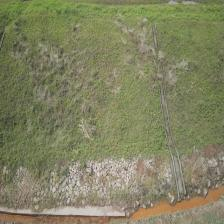rock_toe: (37, 161, 137, 203)
slope_drain: (152, 24, 187, 200)
